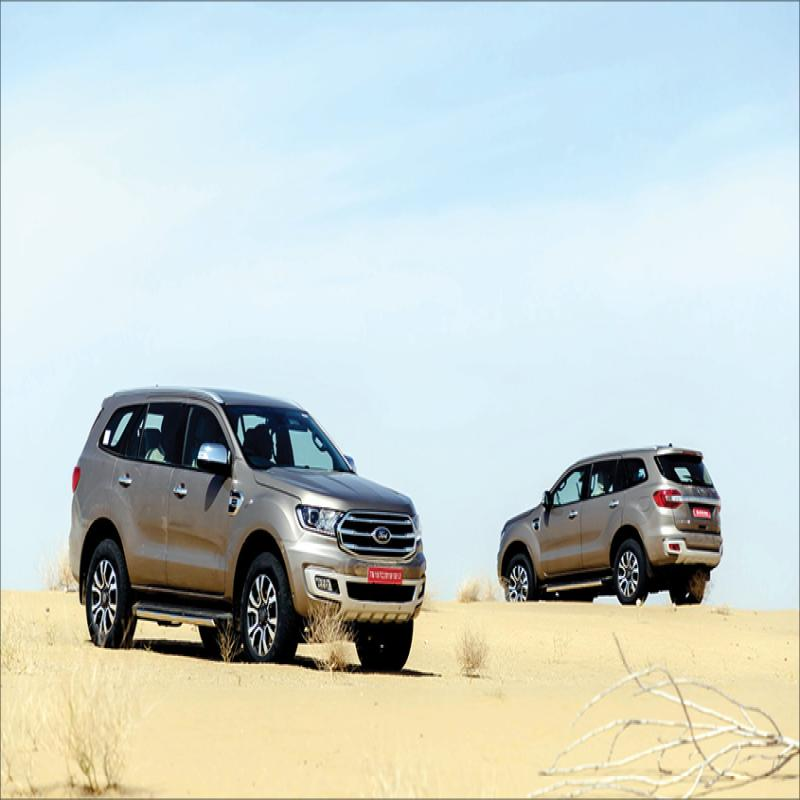car: (62, 364, 430, 663), (487, 462, 734, 597)
